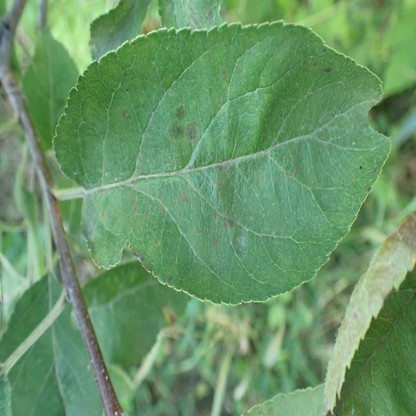powdery_mildew: (82, 204, 98, 239), (234, 235, 247, 251)
scab: (212, 161, 231, 188), (185, 4, 203, 32), (133, 246, 150, 272), (167, 121, 185, 142), (245, 168, 263, 188), (176, 181, 187, 203), (186, 122, 197, 142), (160, 203, 171, 219), (221, 66, 230, 85), (173, 106, 185, 120), (206, 5, 217, 19), (209, 235, 220, 247), (154, 238, 162, 254), (136, 221, 144, 237), (125, 219, 132, 236), (121, 109, 132, 119), (224, 218, 234, 229), (130, 198, 136, 214), (213, 206, 219, 221), (156, 190, 164, 201), (195, 227, 204, 236), (144, 209, 150, 221), (176, 210, 181, 221), (102, 211, 106, 218)
